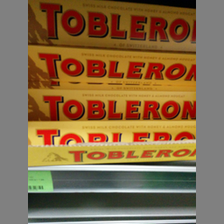chocolate: (28, 1, 196, 50), (28, 45, 196, 90), (29, 88, 196, 122), (28, 120, 197, 150)
